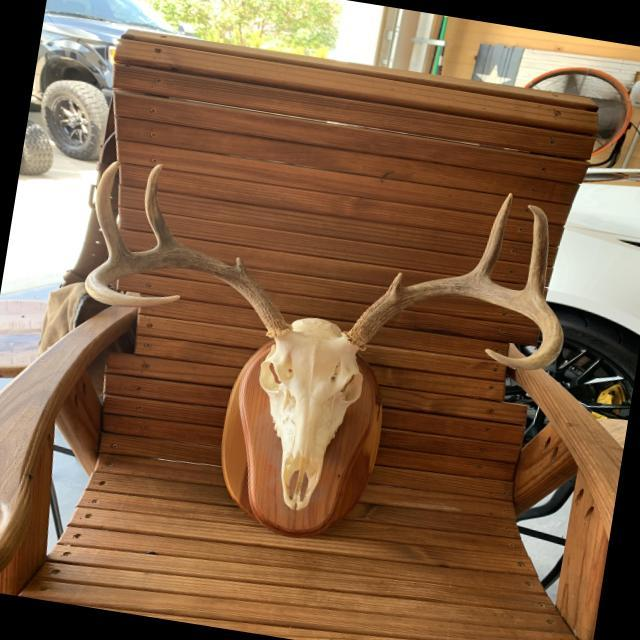L-F: (342, 273, 564, 371)
L-G1: (389, 272, 406, 289)
L-G2: (470, 193, 512, 279)
L-G3: (523, 205, 549, 298)
R-F: (85, 244, 293, 337)
R-G1: (232, 257, 248, 275)
R-G2: (145, 164, 181, 247)
R-G3: (95, 161, 130, 258)
